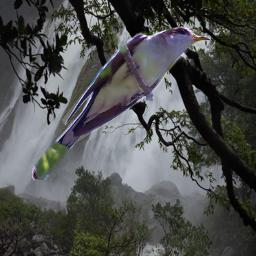Cuckoo: (32, 26, 211, 180)
